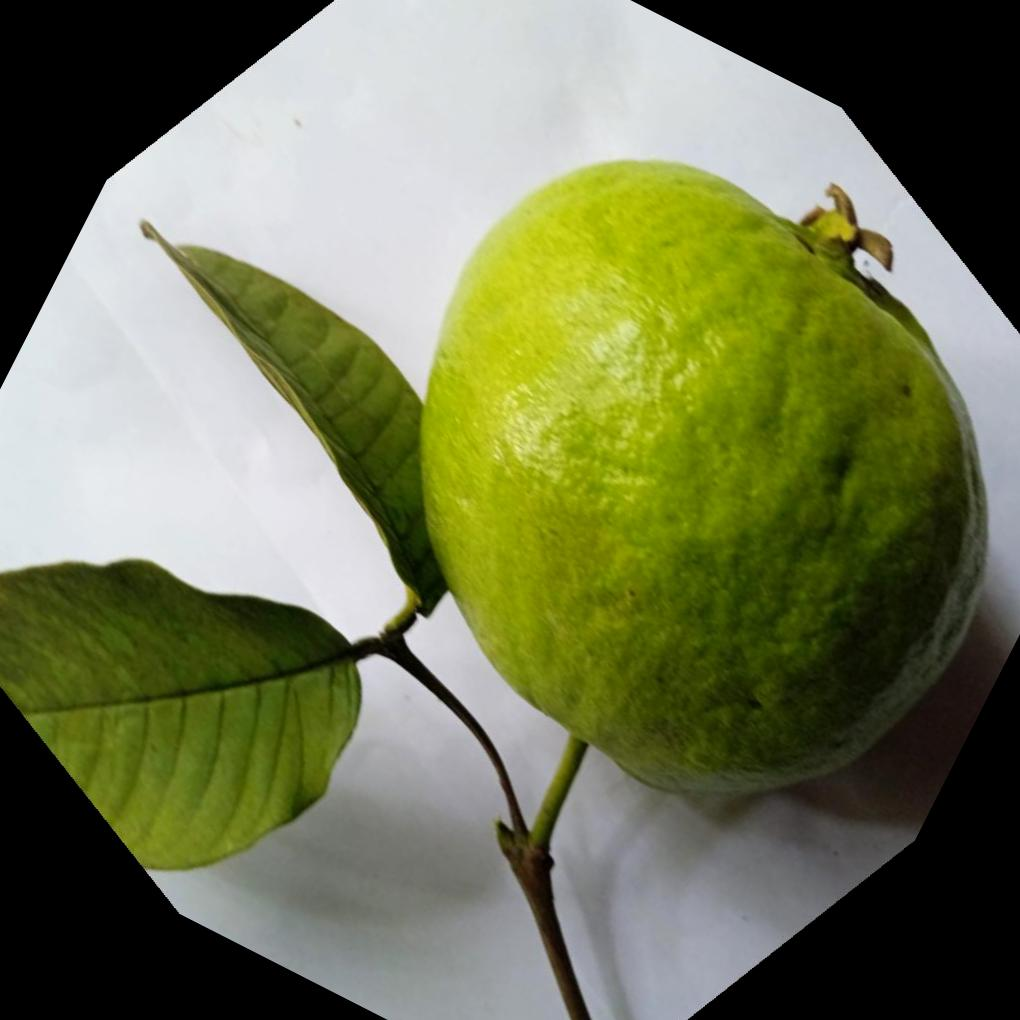FreshGuava: (416, 158, 992, 804)
